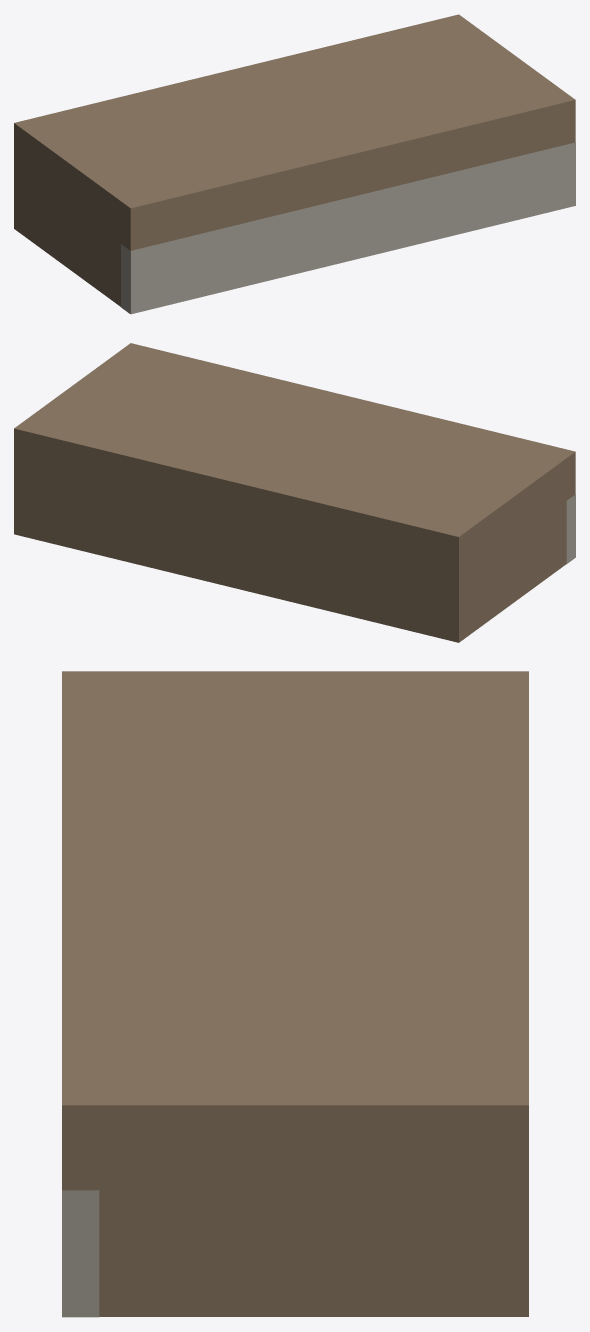
The model's file is fort-stables.zfix-v9.lod2.glb.
3 views of the same model, one above another, from view 1: azimuth 30°, elevation 25°; view 2: azimuth 150°, elevation 25°; view 3: azimuth 270°, elevation 25° (orthographic). The views are drawn at different scales.
Parts seen in each view (by area): view 1: fort-stables; view 2: fort-stables; view 3: fort-stables.
Boxes of the visible parts, <box> form: fort-stables: <box>14,14,575,314</box>; fort-stables: <box>14,343,575,642</box>; fort-stables: <box>62,671,528,1317</box>.
Bounding box in the file's own units: 22.03 × 5.02 × 10.01.
